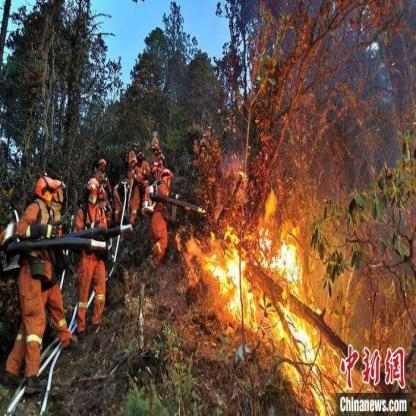fire: (182, 187, 338, 410)
other: (10, 132, 176, 391), (346, 341, 405, 389)
